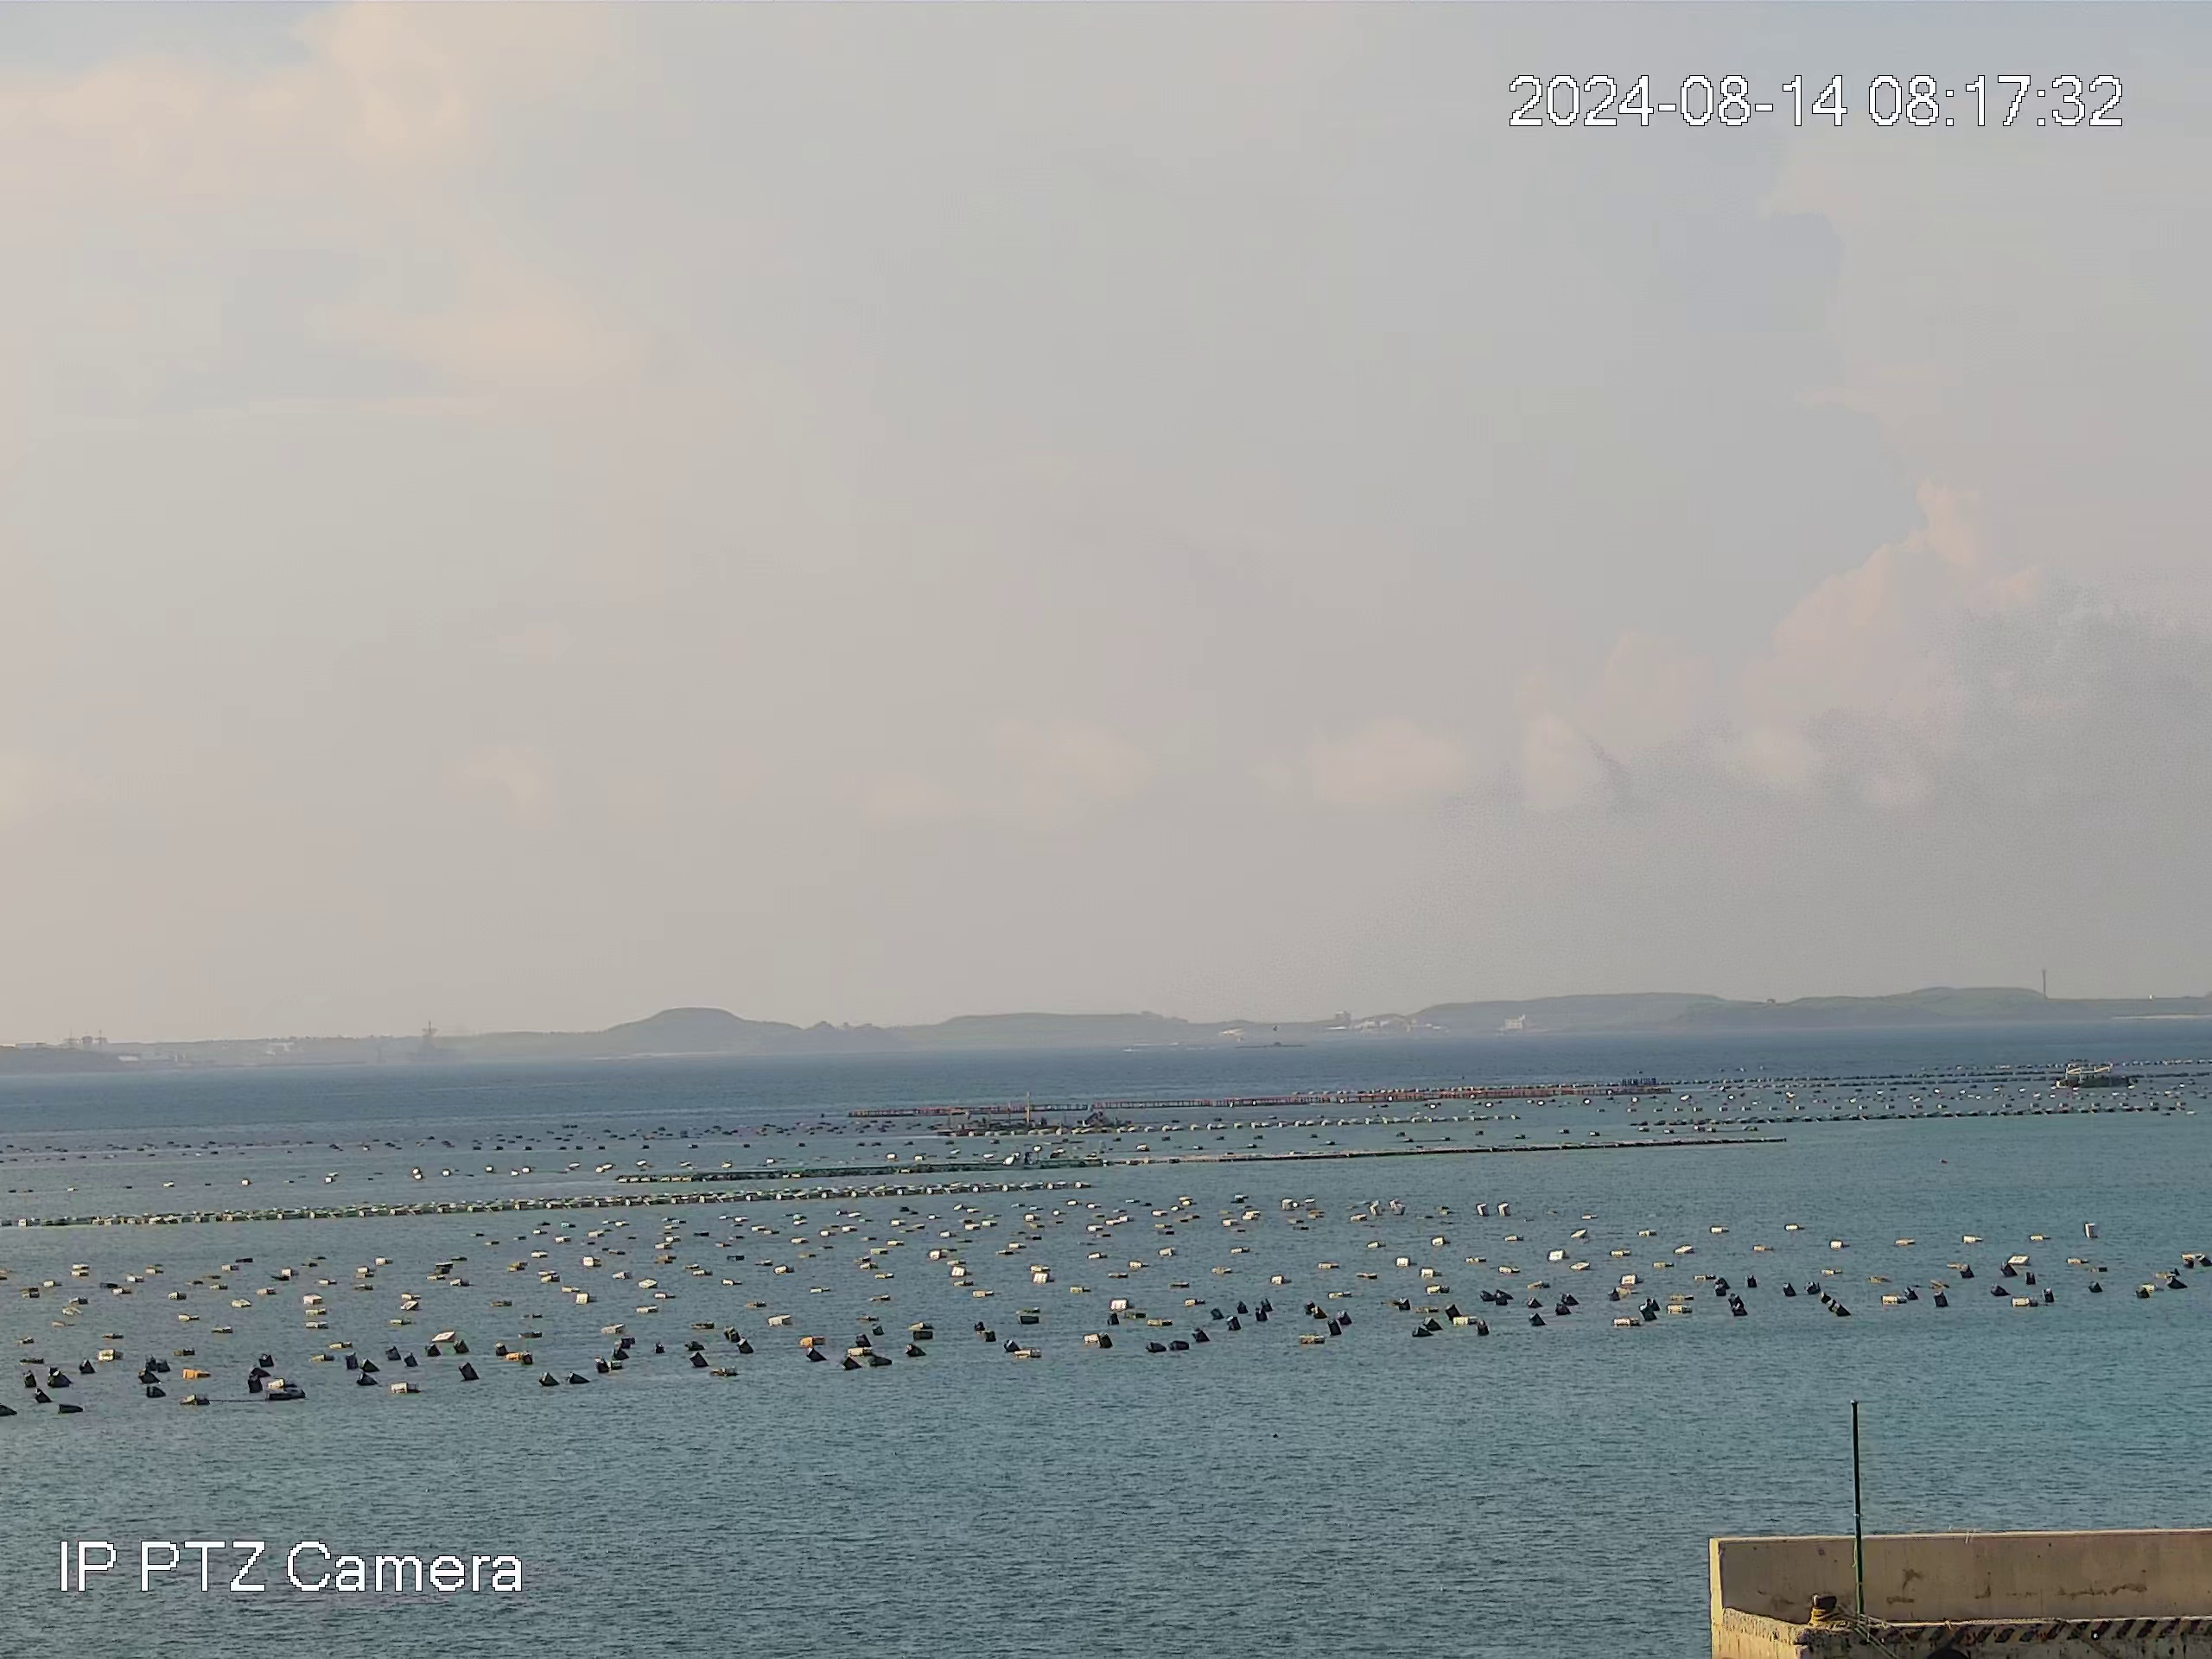boat: (2059, 1063, 2145, 1093)
